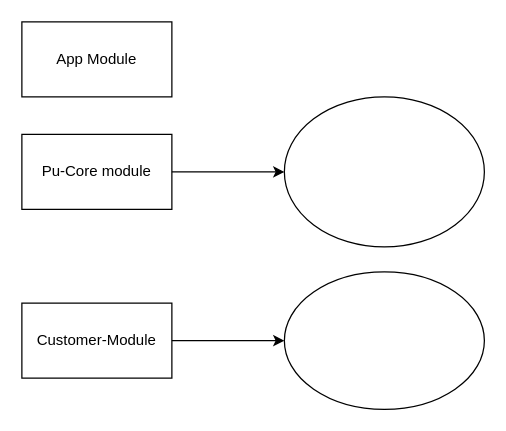
Some shapes in this 506 by 431 pixel diagram are drawn without their labels. The box of each missing label's shape, as (x1, y1, x2, y2) in pixels:
- Lazy load other modules - Route to main module components: (283, 96, 484, 247)
Import dynamic grid stand-alone component: (283, 271, 484, 409)
